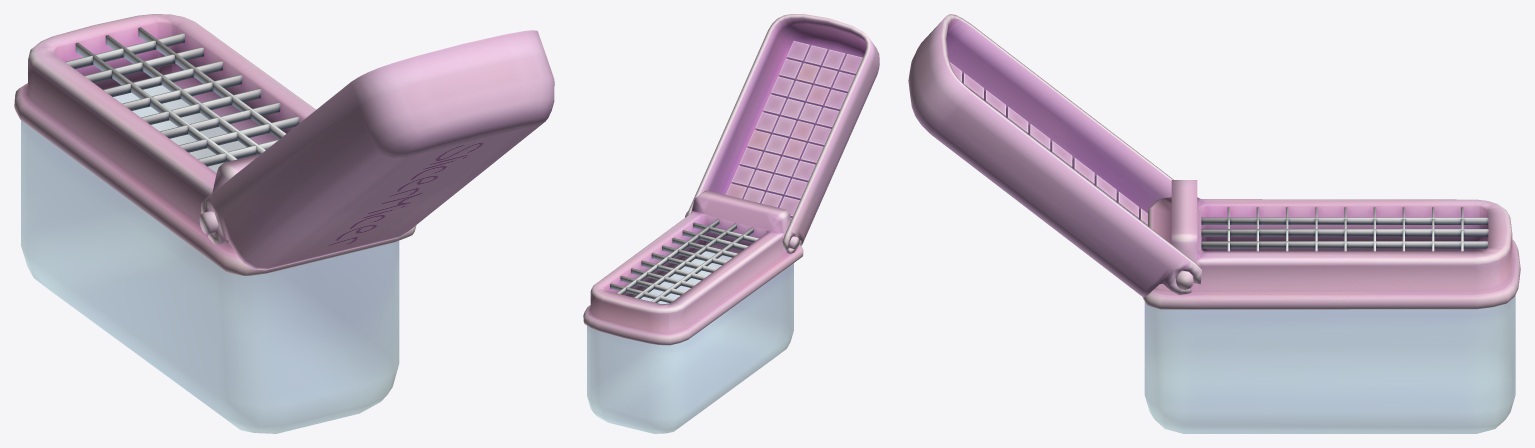
Rendered from nicerdicer.fbx.
The picture shows the model from 3 angles, left to right: view 1: azimuth 30°, elevation 25°; view 2: azimuth 150°, elevation 25°; view 3: azimuth 270°, elevation 25°; orthographic projection. The views are drawn at different scales.
Visible parts, largest first — view 1: NicerDicer_Container, NicerDicer_Lid, NicerDicer_Top; view 2: NicerDicer_Lid, NicerDicer_Top, NicerDicer_Container; view 3: NicerDicer_Container, NicerDicer_Top, NicerDicer_Lid.
Part boxes in pixels (bbox=[...]): NicerDicer_Container: bbox=[21, 85, 399, 433]; NicerDicer_Lid: bbox=[201, 30, 554, 270]; NicerDicer_Top: bbox=[14, 14, 416, 275]; NicerDicer_Lid: bbox=[686, 14, 879, 253]; NicerDicer_Top: bbox=[583, 190, 803, 345]; NicerDicer_Container: bbox=[587, 251, 793, 433]; NicerDicer_Container: bbox=[1144, 295, 1515, 433]; NicerDicer_Top: bbox=[1142, 180, 1520, 309]; NicerDicer_Lid: bbox=[908, 14, 1201, 297].
Bounding box in the file's own units: 47.77 × 113 × 166.
2 materials, 2 textured.
